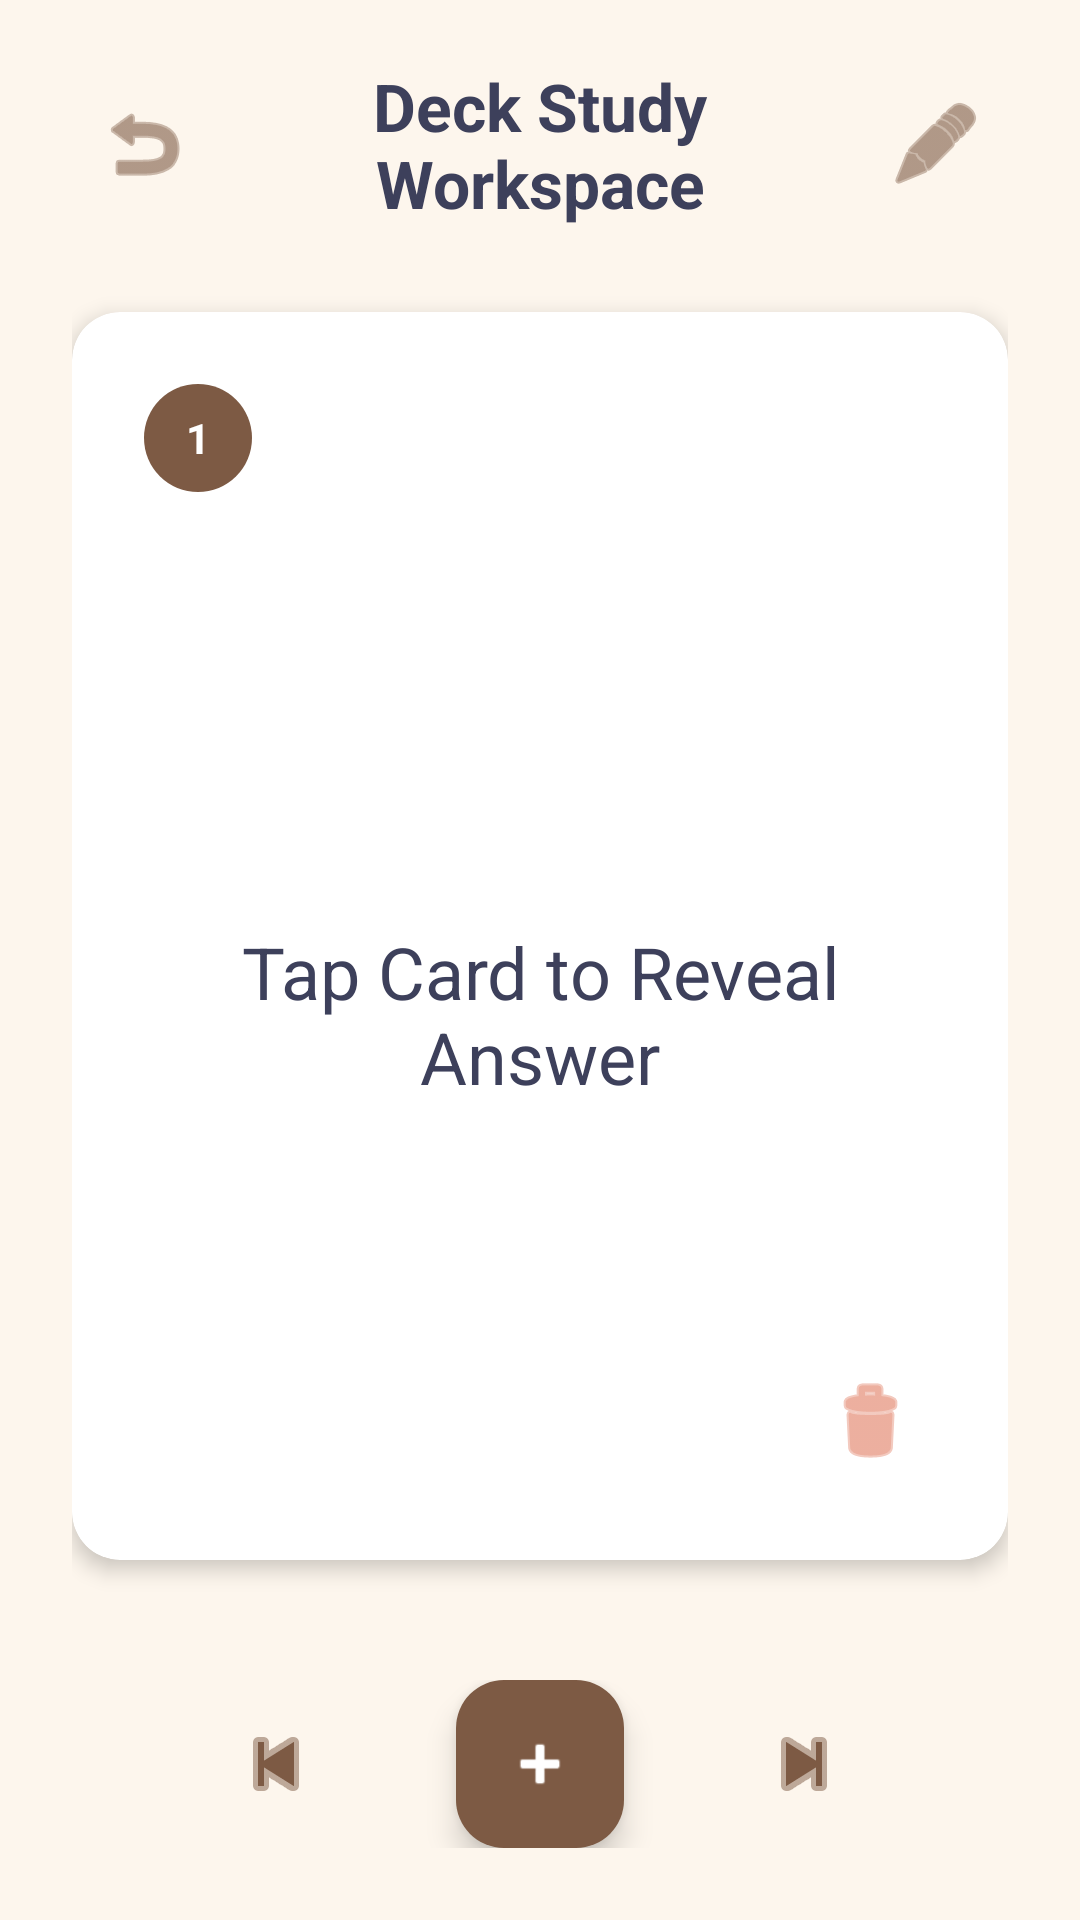

Named icons in this screenshot (1080*1920) and their bounding boxes, Rect(x1, y1, x2, y2):
Add New Card: Rect(456, 1680, 624, 1848)
Delete Card: Rect(844, 1383, 897, 1458)
Go Back: Rect(111, 113, 180, 176)
Next Card: Rect(781, 1737, 827, 1791)
Previous Card: Rect(253, 1737, 299, 1791)
Toggle Edit: Rect(895, 103, 976, 184)
